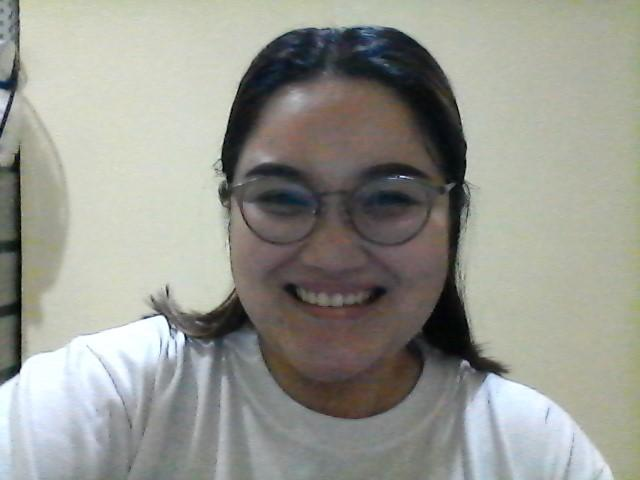senang: (226, 84, 453, 374)
